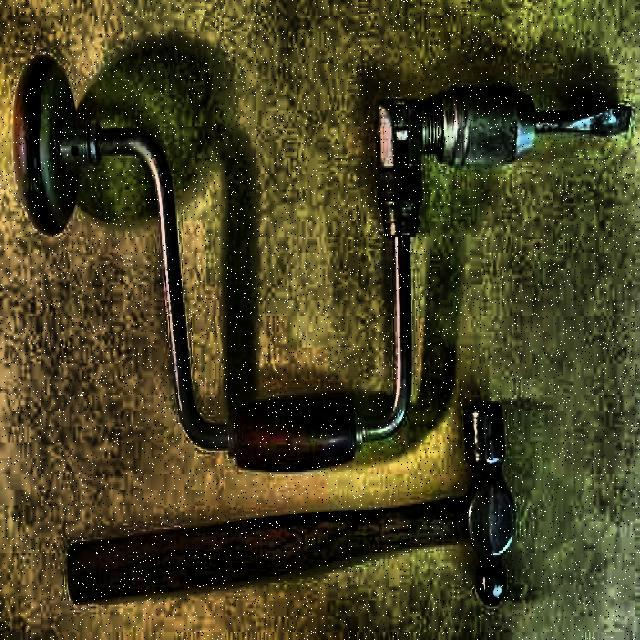hammer: (68, 400, 518, 631)
